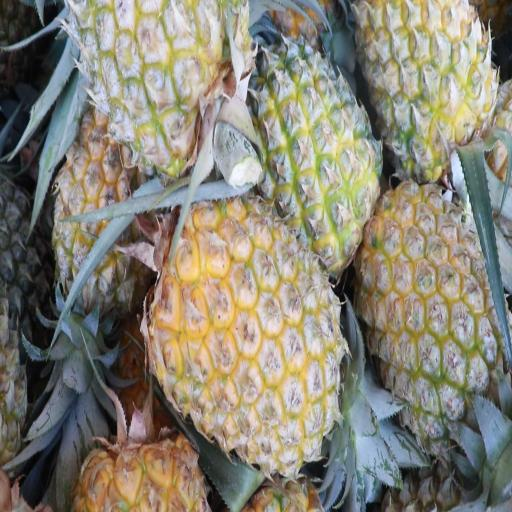------------------------------: (76, 0, 253, 183), (54, 120, 151, 310)
Pineapple - v8 v1: (163, 206, 354, 446), (366, 186, 501, 432), (260, 46, 376, 268), (365, 0, 495, 170)
